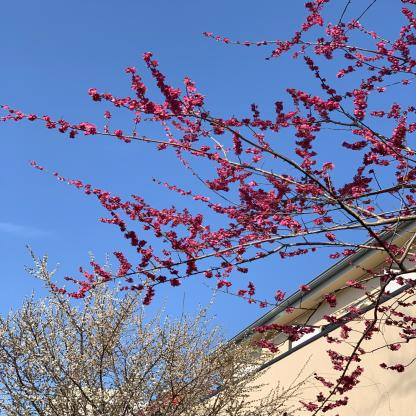Ume: (0, 0, 416, 410), (0, 240, 332, 416)
